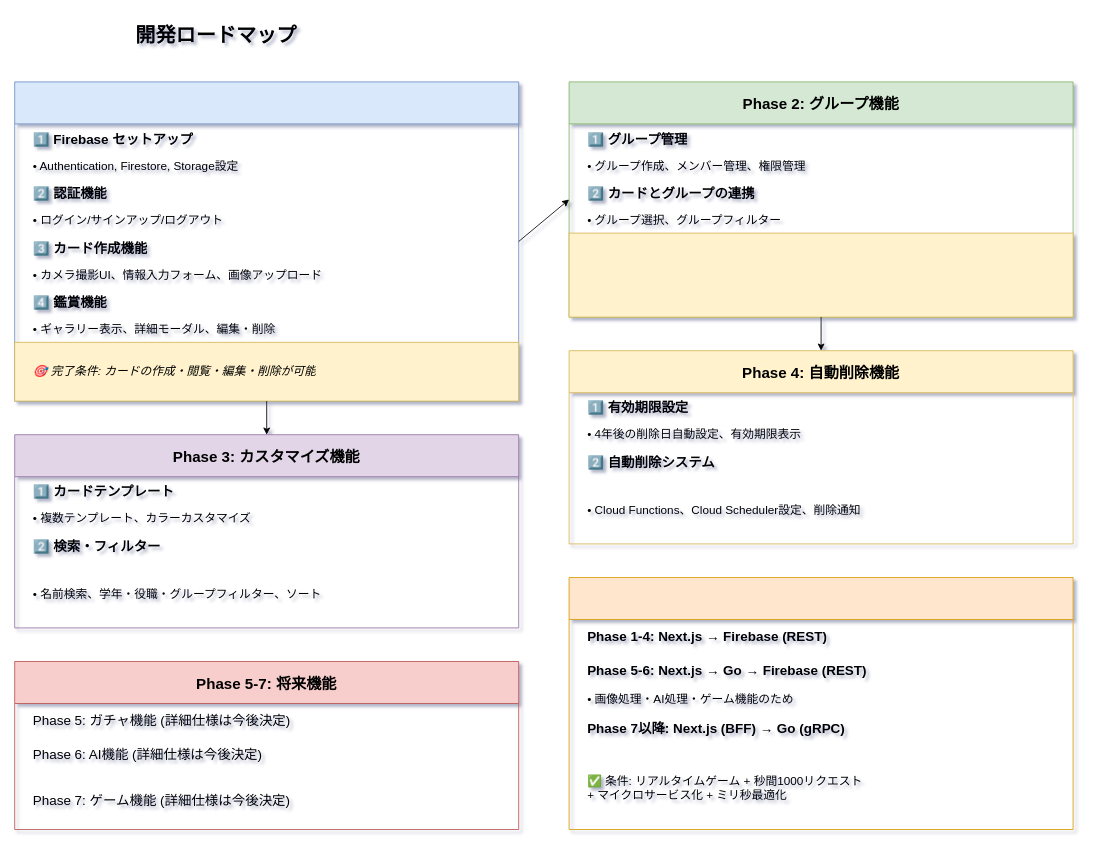
The diagram is 1093 pixels wide and 849 high, and some of its shapes have lost their labels. Each missing label, with the box of its shape:
Phase 1: 基本認証とカード作成 (MVP): (14, 81, 519, 401)
技術スタック移行: (568, 577, 1073, 830)
🎯 完了条件: グループ作成・管理・権限制御が可能: (568, 232, 1073, 317)
